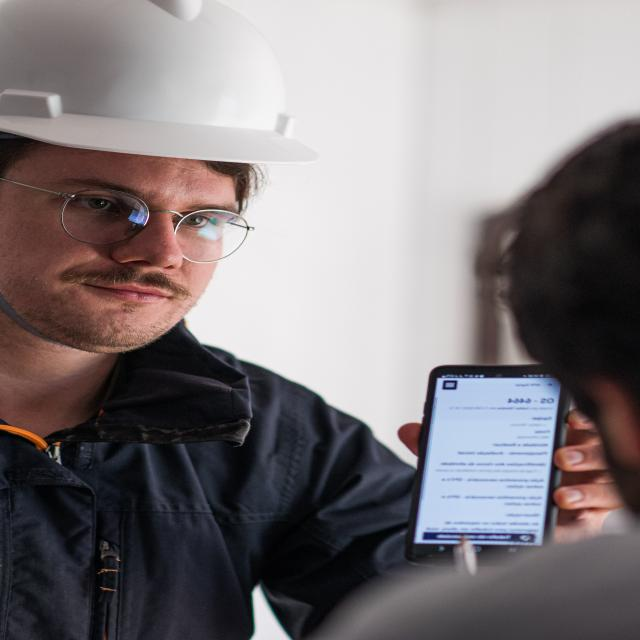capacete: (0, 0, 326, 169)
